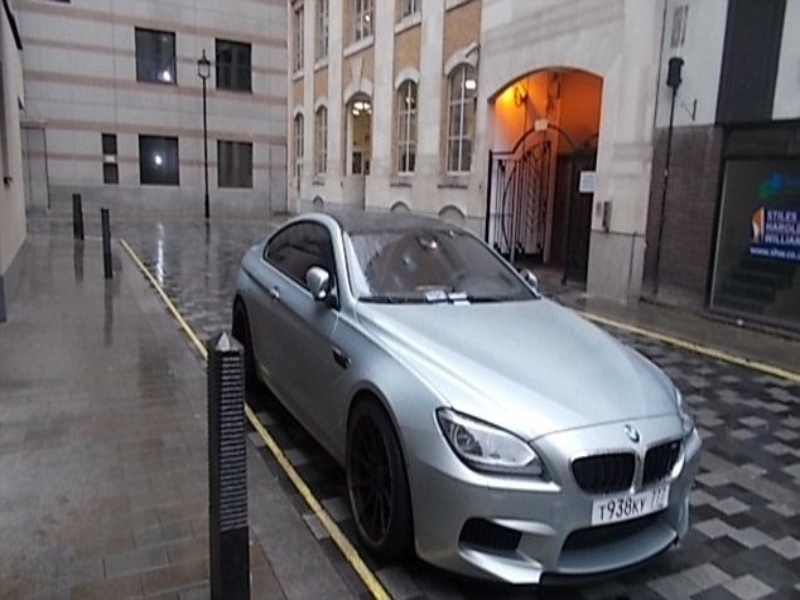car: (232, 211, 702, 585)
plate: (593, 485, 669, 523)
